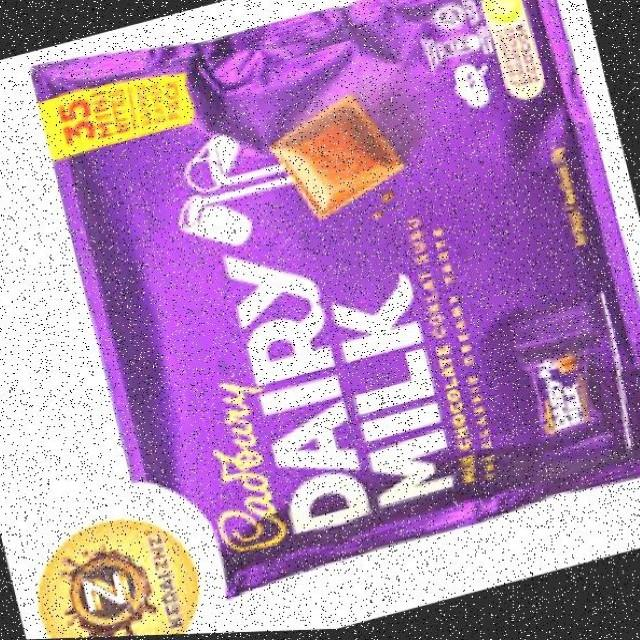cadbury_chocolate: (36, 61, 632, 492)
